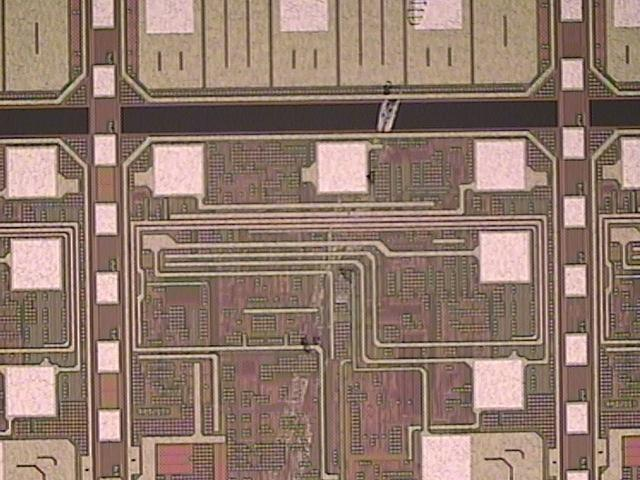SCRATCH: (265, 1, 451, 480)
